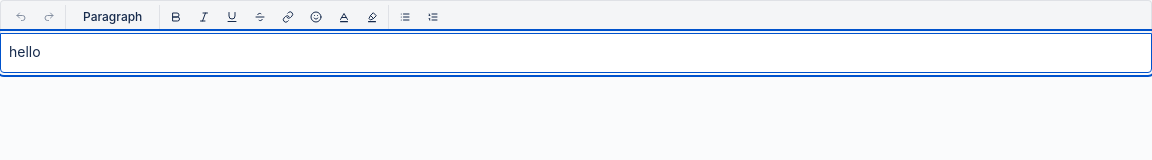
Test: RichTextEditor toolbar › opening the link editor from the toolbar shows the link bubble
Click the button named "Link" at x=288, y=17, box [276,5,300,29]
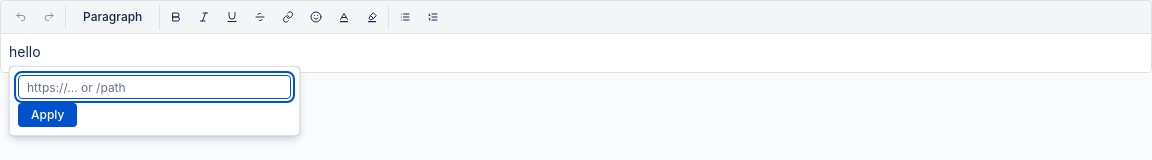
Check: the form named "Edit link" is shown, box [18,75,291,127]
